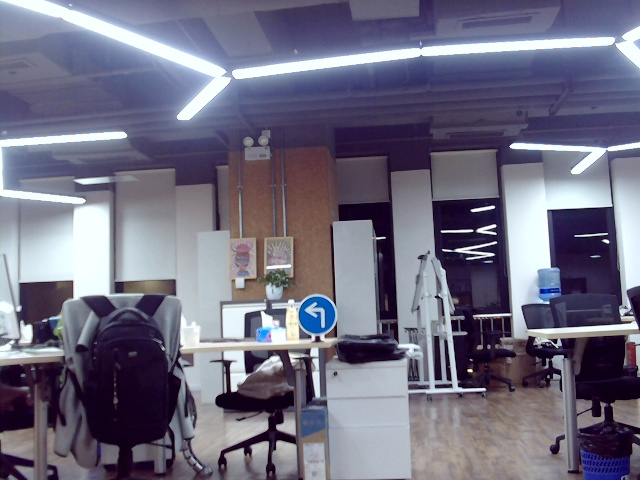turn_left: (303, 301, 328, 327)
